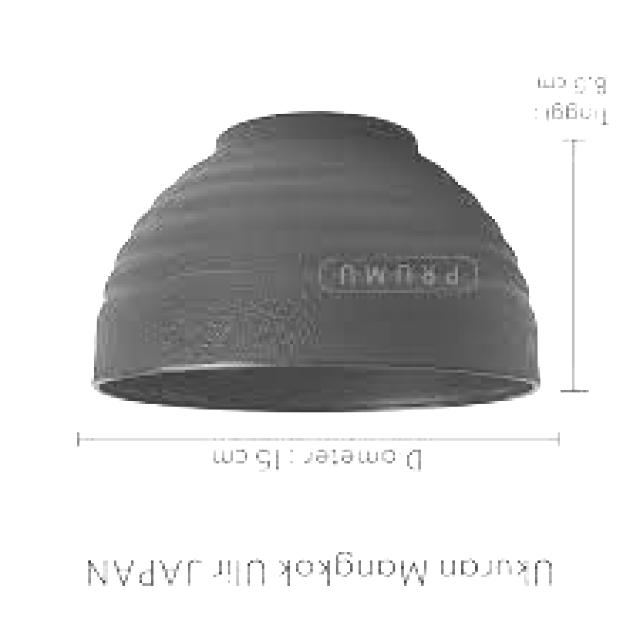Mangkok: (78, 105, 554, 422)
